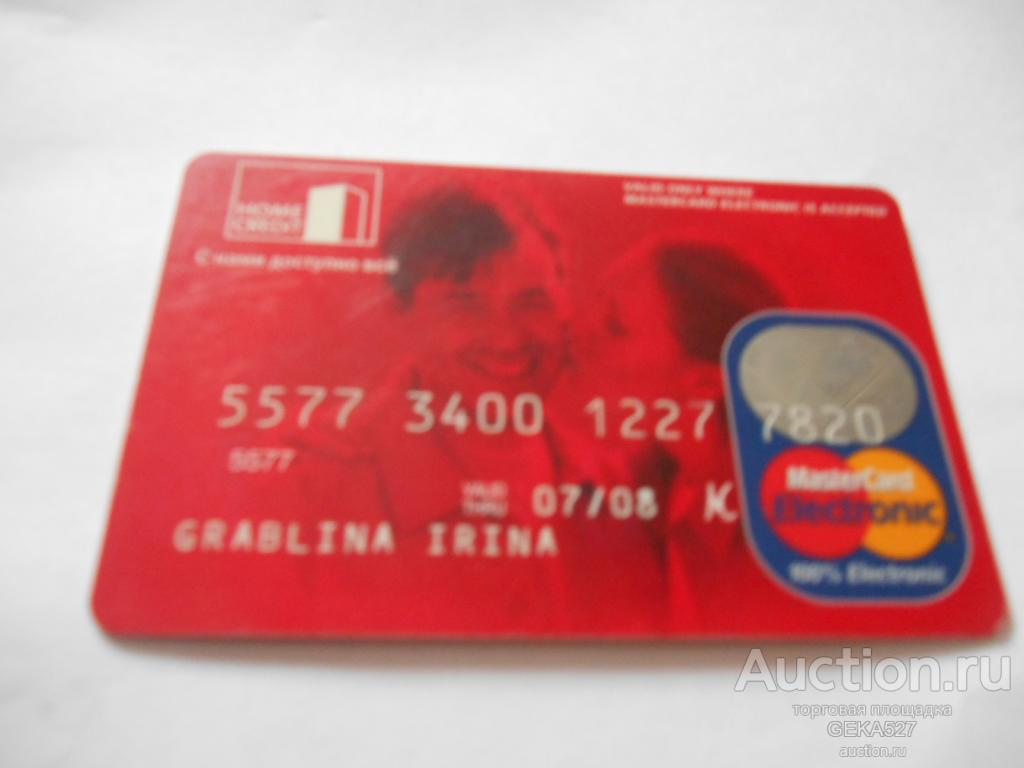card: (91, 147, 1010, 647)
